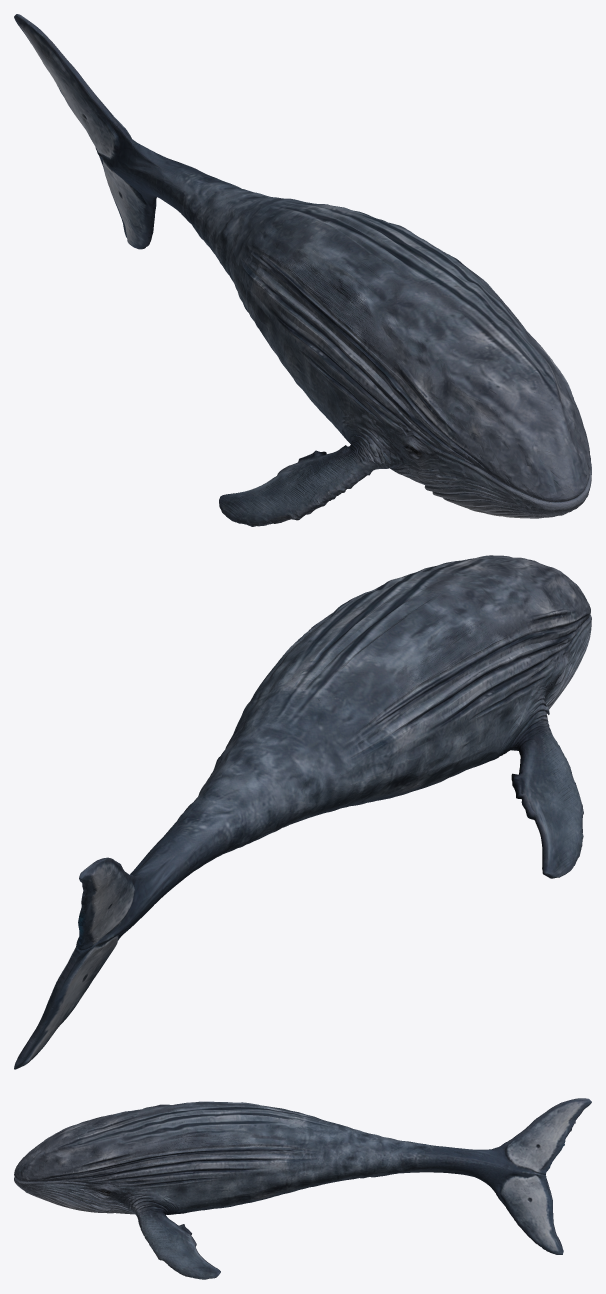
3 views of the same model, one above another, from view 1: azimuth 30°, elevation 25°; view 2: azimuth 150°, elevation 25°; view 3: azimuth 270°, elevation 25° (orthographic). The views are drawn at different scales.
Parts seen in each view (by area): view 1: world; view 2: world; view 3: world.
Boxes of the visible parts, bbox=[...] form: world: bbox=[14, 14, 591, 526]; world: bbox=[14, 555, 591, 1069]; world: bbox=[14, 1098, 591, 1279].
Bounding box in the file's own units: 0.3798 × 0.2506 × 1.
1 material, 1 textured.
